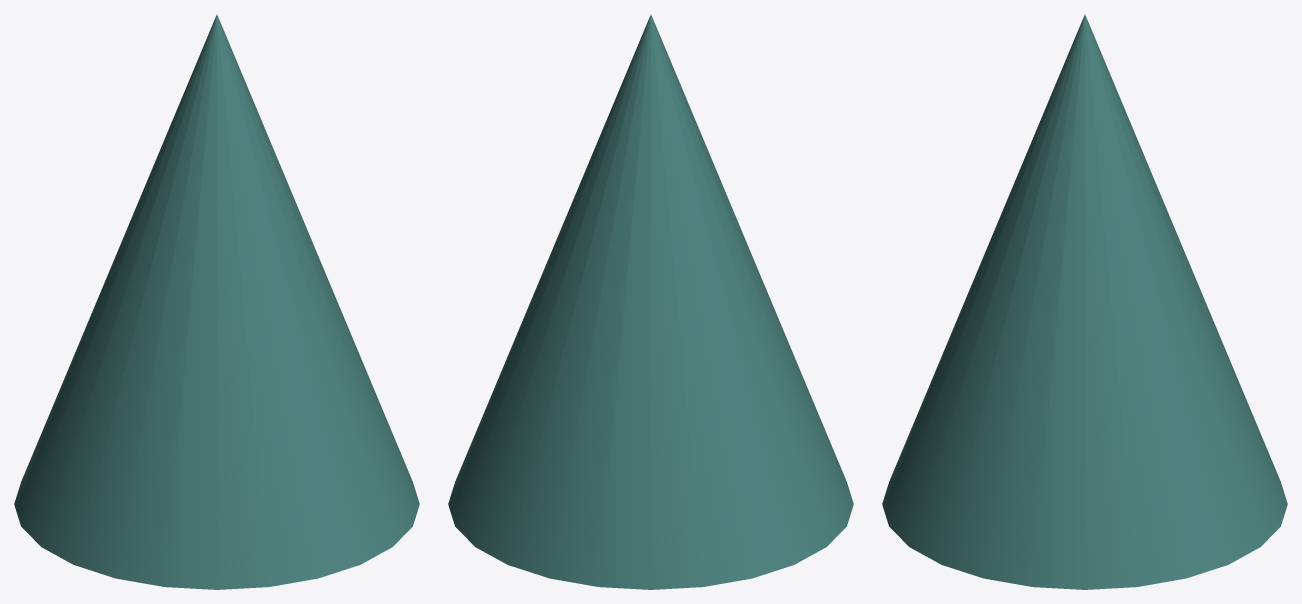
Rendered from wp-cone-geometrique.glb.
3 renders of one model, left to right at view 1: azimuth 30°, elevation 25°; view 2: azimuth 150°, elevation 25°; view 3: azimuth 270°, elevation 25°, orthographic.
Visible parts, largest first — view 1: wp-cone-geometrique; view 2: wp-cone-geometrique; view 3: wp-cone-geometrique.
Boxes of the visible parts, left/top/right/bottom form: wp-cone-geometrique: left=14, top=14, right=419, bottom=589; wp-cone-geometrique: left=448, top=14, right=853, bottom=589; wp-cone-geometrique: left=882, top=14, right=1287, bottom=589.
Size of the model in its own units: 0.3 by 0.4 by 0.3.
